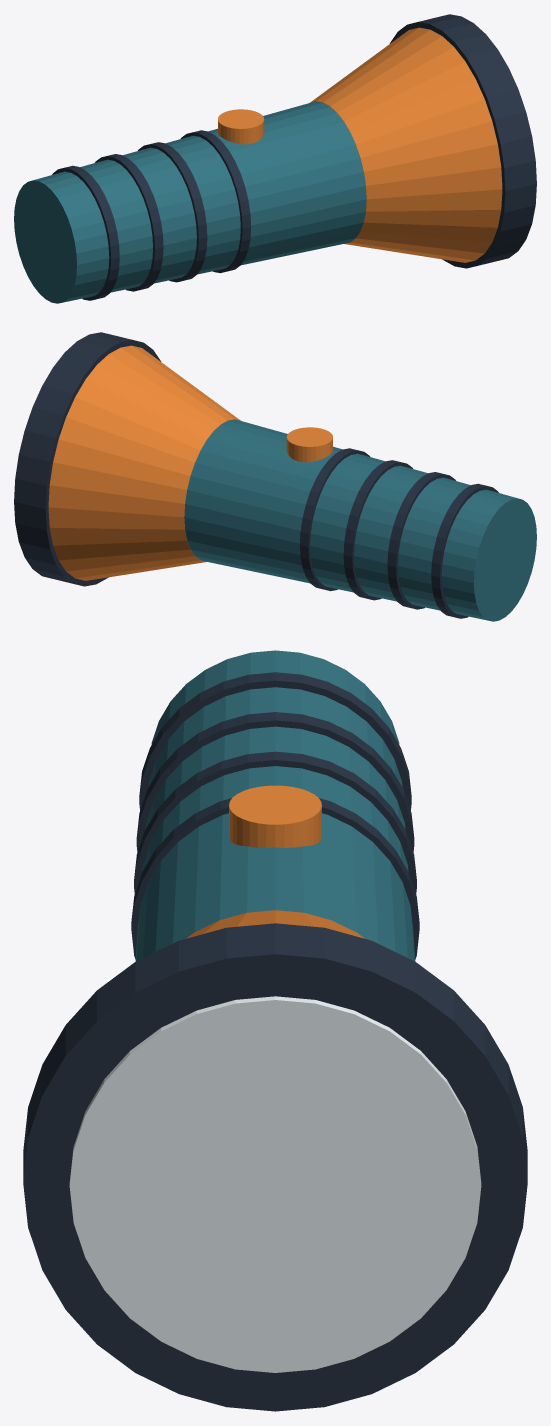
The model's file is flashlight.glb.
The picture shows the model from 3 angles, top to bottom: view 1: azimuth 30°, elevation 25°; view 2: azimuth 150°, elevation 25°; view 3: azimuth 270°, elevation 25°; orthographic projection. The views are drawn at different scales.
Parts seen in each view (by area): view 1: grip, head, bezel, grip ring 3, grip ring 2, grip ring 1, grip ring 0, switch; view 2: grip, head, bezel, grip ring 3, grip ring 2, grip ring 1, grip ring 0, switch; view 3: lens, bezel, grip, switch, grip ring 0, grip ring 1, grip ring 2, grip ring 3, head.
Part boxes in pixels (x1=…): grip: x1=14, y1=101, x2=366, y2=303; head: x1=310, y1=27, x2=502, y2=262; bezel: x1=389, y1=14, x2=536, y2=268; grip ring 3: x1=180, y1=130, x2=250, y2=273; grip ring 2: x1=138, y1=142, x2=207, y2=282; grip ring 1: x1=95, y1=154, x2=163, y2=291; grip ring 0: x1=52, y1=165, x2=119, y2=300; switch: x1=218, y1=109, x2=264, y2=144; grip: x1=184, y1=419, x2=536, y2=621; head: x1=48, y1=345, x2=240, y2=580; bezel: x1=14, y1=332, x2=161, y2=586; grip ring 3: x1=300, y1=448, x2=370, y2=591; grip ring 2: x1=343, y1=460, x2=412, y2=600; grip ring 1: x1=387, y1=472, x2=455, y2=609; grip ring 0: x1=431, y1=483, x2=498, y2=618; switch: x1=286, y1=427, x2=332, y2=462; lens: x1=69, y1=996, x2=481, y2=1372; bezel: x1=23, y1=923, x2=527, y2=1411; grip: x1=135, y1=650, x2=415, y2=961; switch: x1=229, y1=785, x2=321, y2=847; grip ring 0: x1=139, y1=672, x2=411, y2=810; grip ring 1: x1=136, y1=712, x2=414, y2=852; grip ring 2: x1=134, y1=751, x2=416, y2=894; grip ring 3: x1=131, y1=798, x2=419, y2=959; head: x1=186, y1=910, x2=364, y2=938.
Size of the model in its own units: 1.5 by 0.76 by 0.76.
